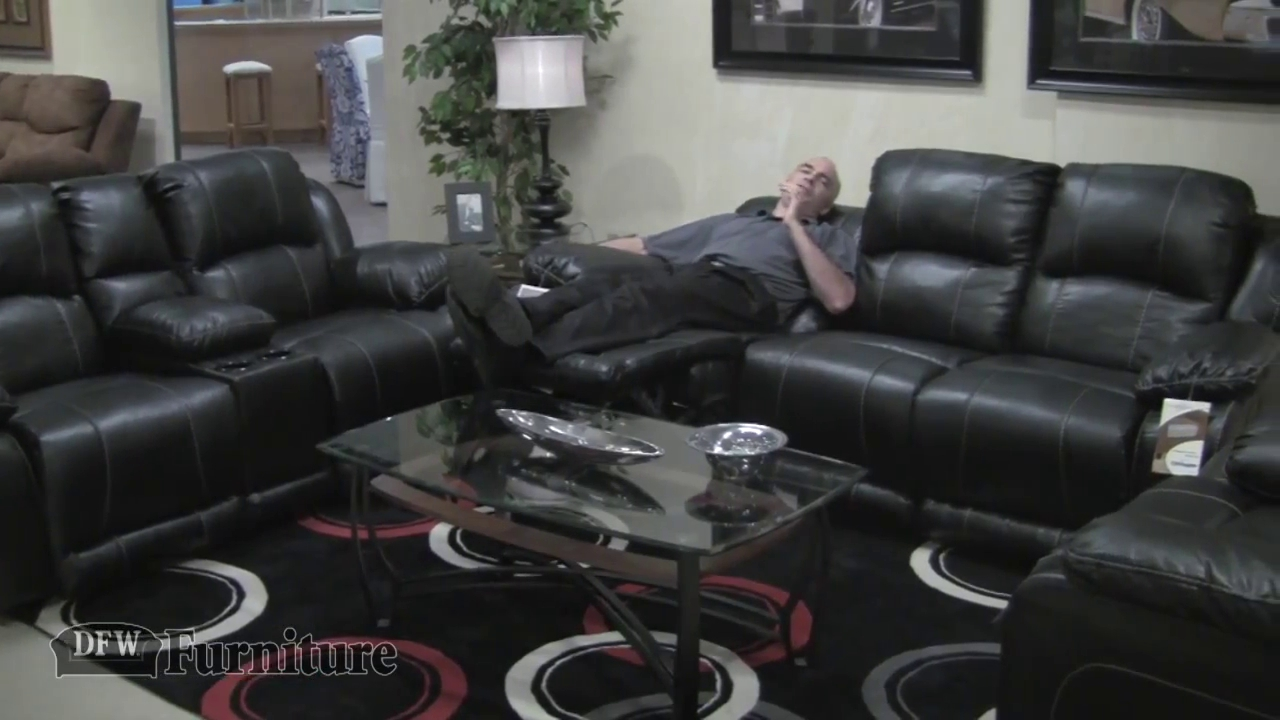person: (446, 156, 859, 387)
